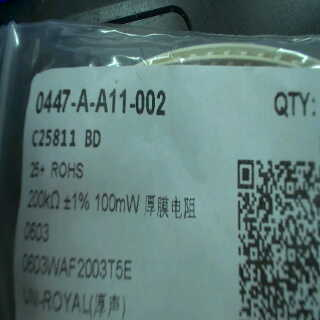200kR: (20, 187, 64, 215)
